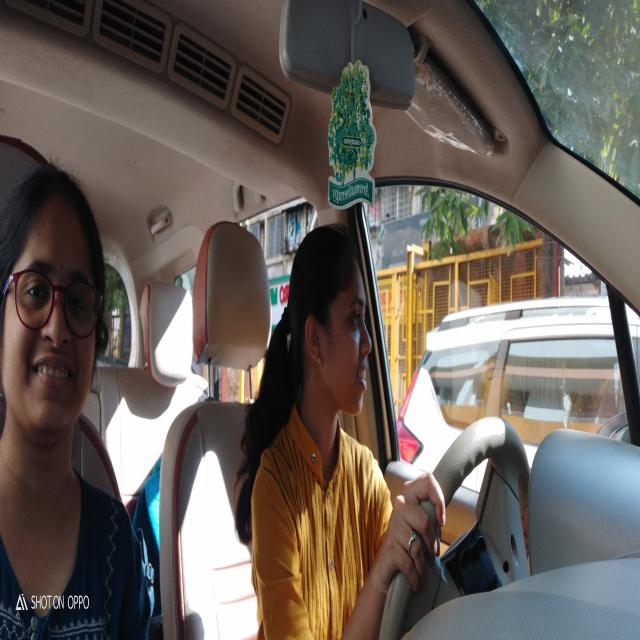LeftRight: (278, 202, 384, 470)
person: (2, 134, 126, 493)
